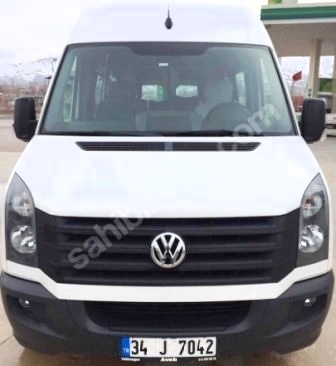plaka: (127, 334, 218, 358)
